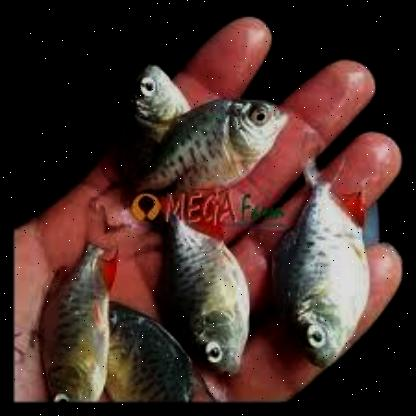ikan-pacu: (269, 162, 371, 369), (126, 93, 290, 194), (157, 202, 251, 374), (36, 244, 110, 404), (107, 302, 195, 398), (122, 63, 188, 169)
